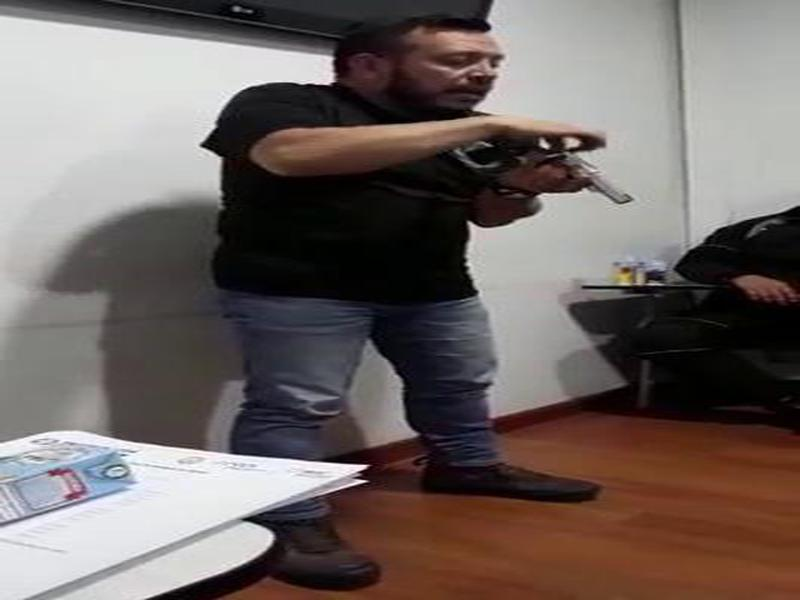Revolver: (487, 118, 647, 231)
